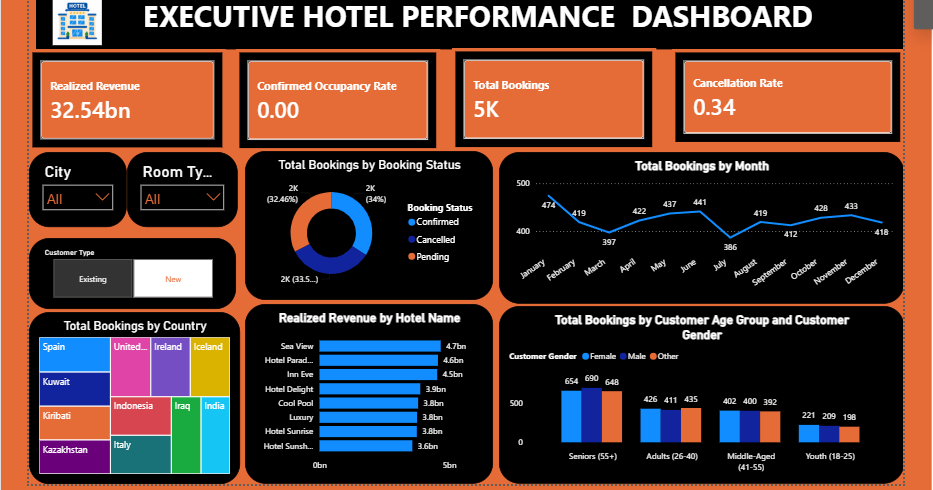

The dashboard page shown, as its layout file describes it:
{"tool":"powerbi","page":{"name":"Page 1","canvas":[1280,720],"ordinal":0},"visuals":[{"type":"textbox","box":[10.1,0,1269.9,84],"z":0},{"type":"image","box":[181.5,150.7,79,74.6],"z":1000},{"type":"image","box":[14.6,5.9,112.7,71.7],"z":2000},{"type":"cardVisual","fields":{"Data":["0_Hotel_management Data.Realized Revenue"]},"box":[0,83.4,288.3,149.3],"z":3000},{"type":"cardVisual","fields":{"Data":["0_Hotel_management Data.Confirmed Occupancy Rate"]},"box":[302.9,83.4,298.5,150.7],"z":4000},{"type":"cardVisual","fields":{"Data":["0_Hotel_management Data.Total Bookings"]},"box":[619,82,298.5,150.7],"z":5000},{"type":"cardVisual","fields":{"Data":["0_Hotel_management Data.Cancellation Rate"]},"box":[941,83.4,339.5,142],"z":6000},{"type":"donutChart","fields":{"Category":["0_Hotel_management Data.Booking Status"],"Y":["0_Hotel_management Data.Total Bookings"]},"box":[316.1,232.7,362.9,218],"z":7000},{"type":"lineChart","fields":{"Y":["0_Hotel_management Data.Total Bookings"],"Category":["0_Hotel_management Data.Booking Date.Variation.Date Hierarchy.Month"]},"box":[687.8,234.1,592.7,222.4],"z":8000},{"type":"clusteredColumnChart","fields":{"Y":["0_Hotel_management Data.Total Bookings"],"Series":["0_Hotel_management Data.Customer Gender"],"Category":["0_Hotel_management Data.Customer Age Group"]},"box":[687.8,459.5,592.7,260.5],"z":9000},{"type":"clusteredBarChart","fields":{"Category":["0_Hotel_management Data.Hotel Name"],"Y":["0_Hotel_management Data.Realized Revenue"]},"box":[316.1,456.6,362.9,263.4],"z":10000},{"type":"treemap","fields":{"Group":["0_Hotel_management Data.Country","0_Hotel_management Data.City"],"Values":["0_Hotel_management Data.Total Bookings"]},"box":[0,468.3,308.8,251.7],"z":11000},{"type":"slicer","fields":{"Values":["0_Hotel_management Data.City"]},"box":[0,234.1,143.4,109.8],"z":12000},{"type":"slicer","fields":{"Values":["0_Hotel_management Data.Room Type"]},"box":[143.4,234.1,162.4,109.8],"z":13000},{"type":"slicer","fields":{"Values":["0_Hotel_management Data.Customer Type"]},"box":[0,360,302.9,103.9],"z":14000}]}

Visuals, with their boxes in screenshot pixels (x1, y1, x2, y2):
textbox: detection(41, 0, 894, 49)
image: detection(156, 94, 209, 144)
image: detection(44, 0, 120, 45)
cardVisual - 0_Hotel_management Data.Realized Revenue: detection(34, 49, 228, 149)
cardVisual - 0_Hotel_management Data.Confirmed Occupancy Rate: detection(238, 49, 438, 150)
cardVisual - 0_Hotel_management Data.Total Bookings: detection(450, 48, 651, 149)
cardVisual - 0_Hotel_management Data.Cancellation Rate: detection(667, 49, 895, 144)
donutChart - 0_Hotel_management Data.Booking Status x 0_Hotel_management Data.Total Bookings: detection(247, 149, 490, 296)
lineChart - 0_Hotel_management Data.Total Bookings x 0_Hotel_management Data.Booking Date.Variation.Date Hierarchy.Month: detection(496, 150, 895, 300)
clusteredColumnChart - 0_Hotel_management Data.Total Bookings x 0_Hotel_management Data.Customer Gender: detection(496, 302, 895, 477)
clusteredBarChart - 0_Hotel_management Data.Hotel Name x 0_Hotel_management Data.Realized Revenue: detection(247, 300, 490, 477)
treemap - 0_Hotel_management Data.Country x 0_Hotel_management Data.City: detection(34, 308, 242, 477)
slicer - 0_Hotel_management Data.City: detection(34, 150, 130, 224)
slicer - 0_Hotel_management Data.Room Type: detection(130, 150, 240, 224)
slicer - 0_Hotel_management Data.Customer Type: detection(34, 235, 238, 305)
